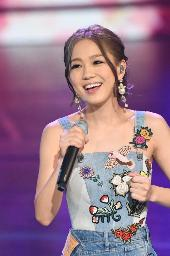face: (72, 42, 116, 104)
